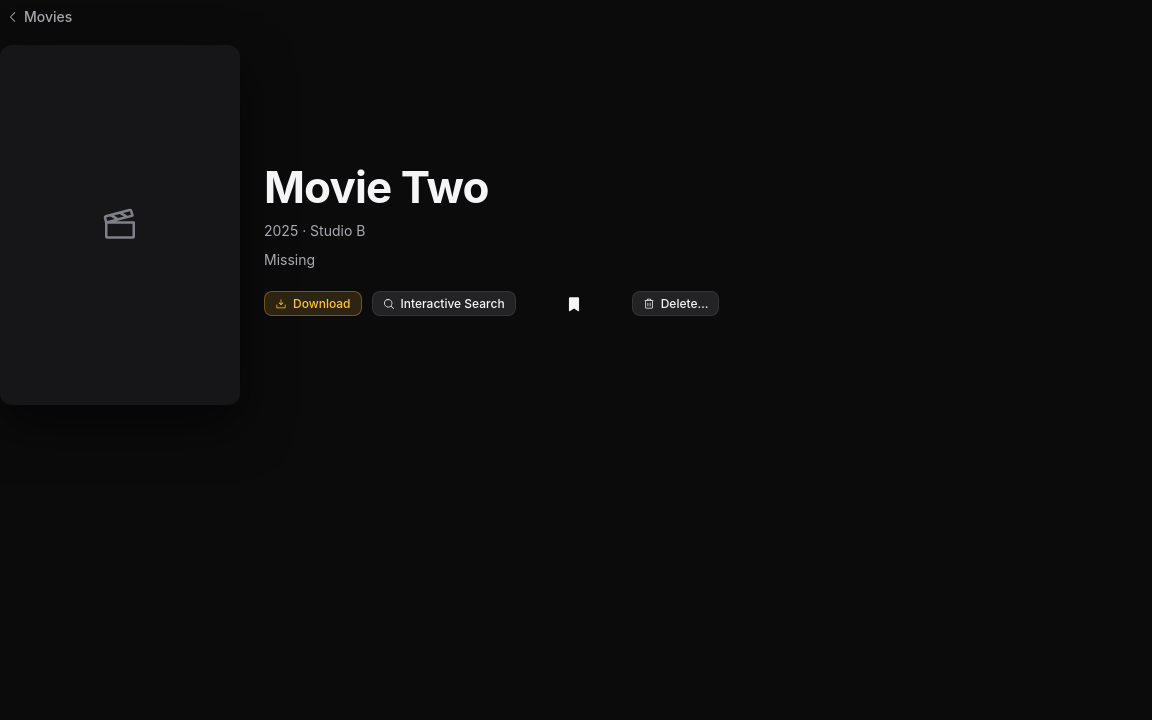
Test: movie page Download posts MoviesSearch; Interactive Search opens the existing modal
Click the button "Download": [313, 304] box 264,291 -> 362,316
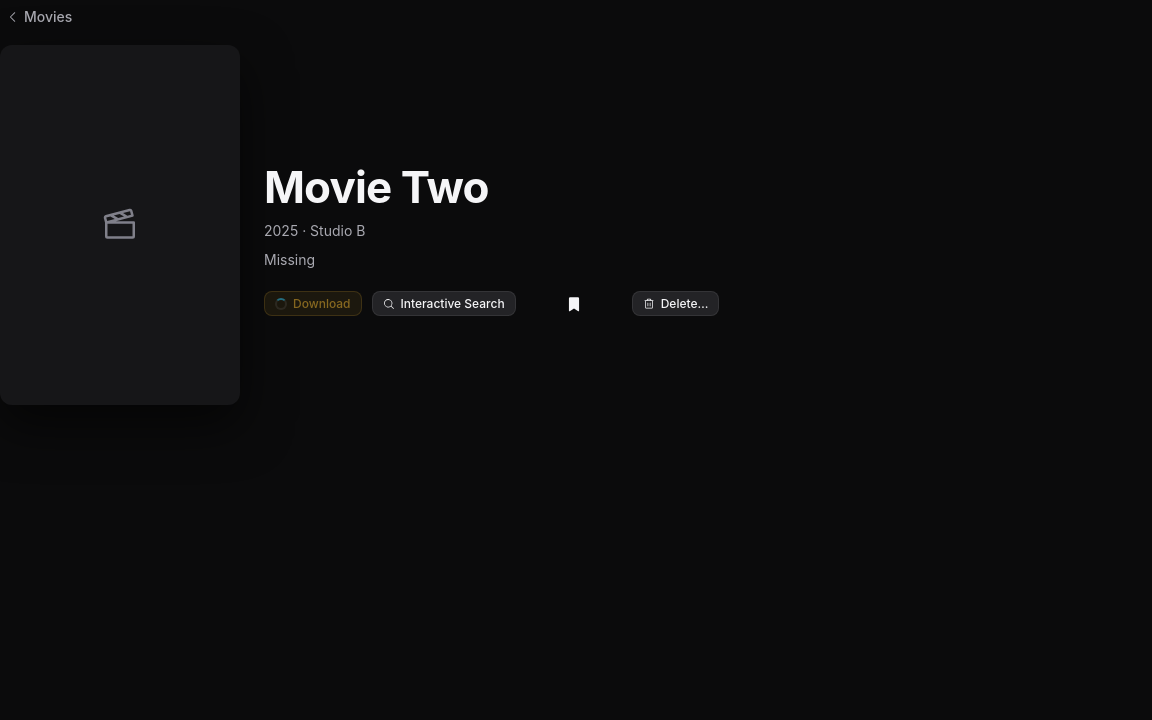
Click the button "Interactive Search": [444, 304] box 372,291 -> 516,316
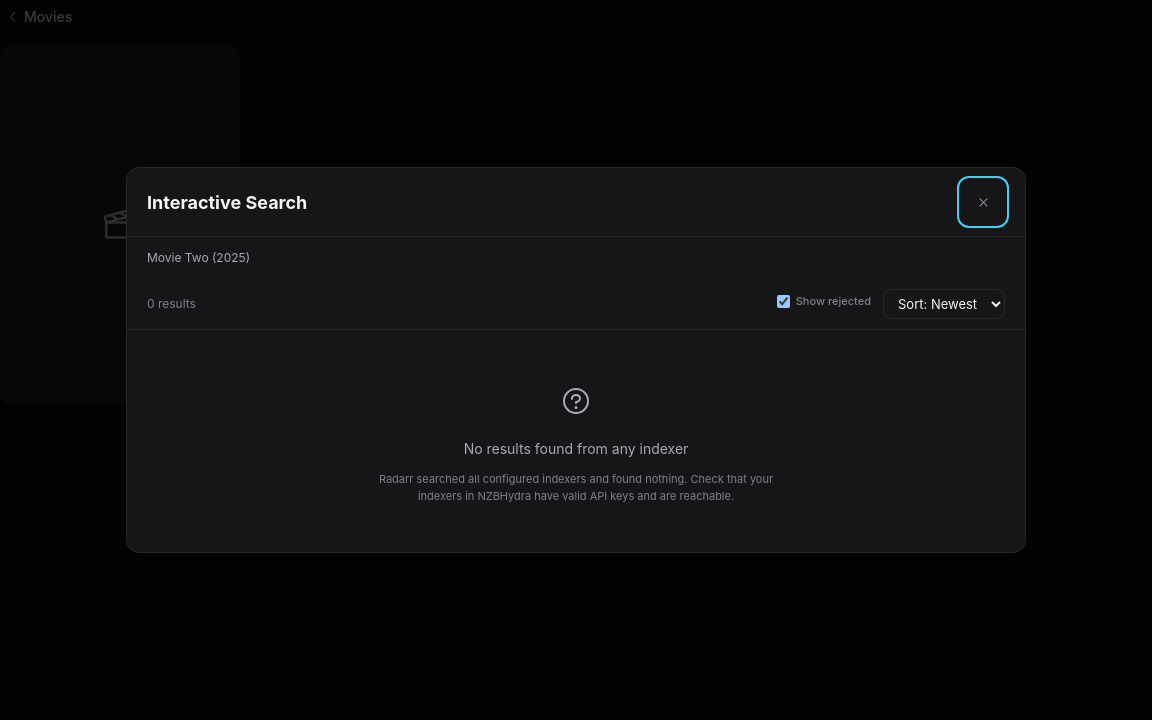
Now the dialog is shown, box 126,167 -> 1026,553
